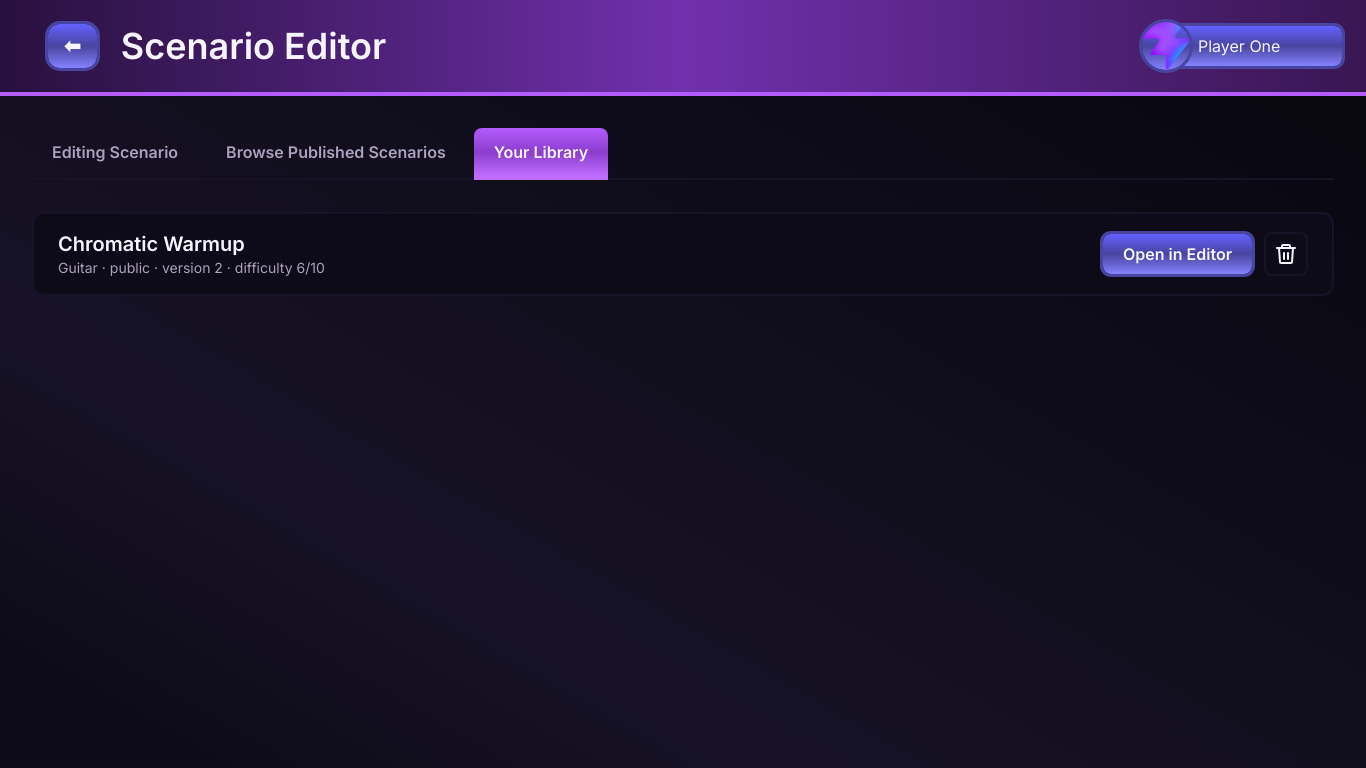
it: Your Library › deletes a scenario after confirmation and drops it from the list
The image size is (1366, 768).
Click the button named "Delete Chromatic Warmup".
click(1286, 254)  # box [1264,232,1308,276]
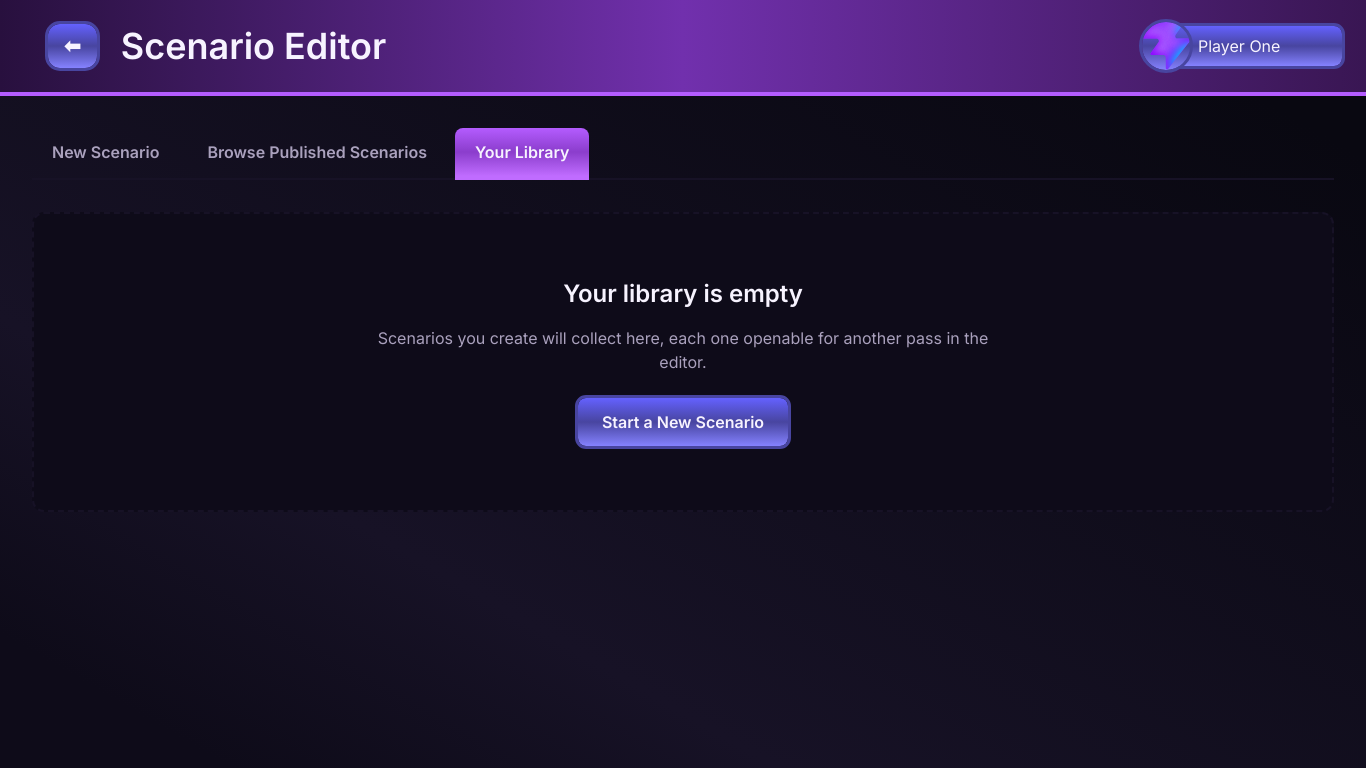
Expected: the heading "Your library is empty" is shown, [563,278,803,310]
Expected: the tab "New Scenario" is shown, [32,128,179,180]
